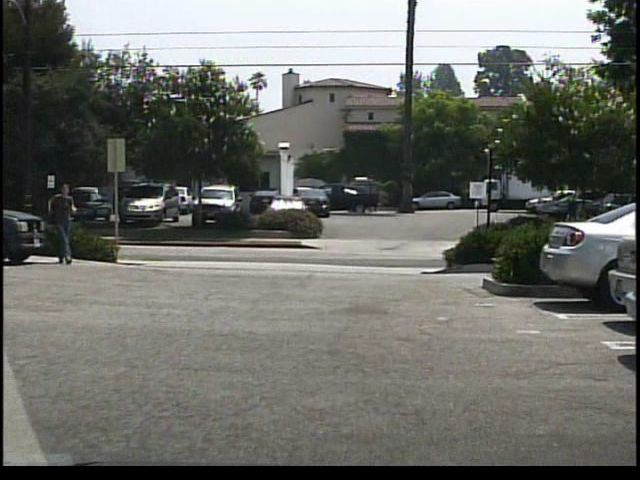person: (46, 180, 82, 266)
